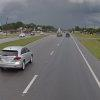Car: (2, 39, 36, 72)
